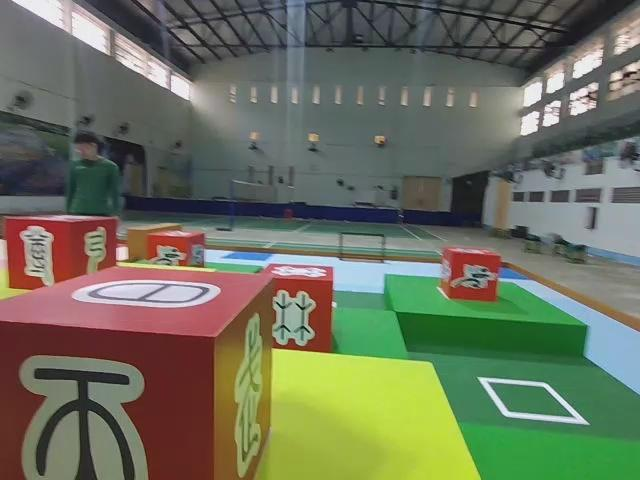R1: (438, 244, 503, 303), (143, 227, 207, 275)
R2 Fake: (0, 262, 275, 480), (3, 211, 119, 291)
R2 Real: (258, 261, 337, 355)
